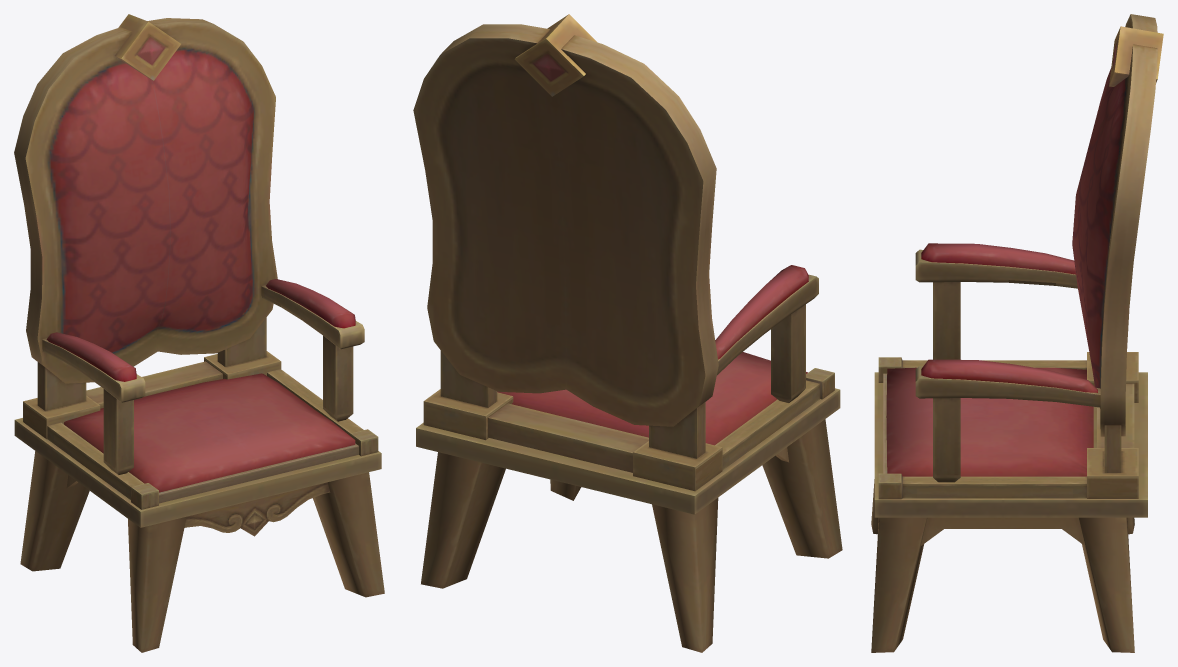
The model's file is Homeworld_Interior_Fd_Chair_Prop_DyzYi_01_Vo.fbx.
3 views of the same model, side by side, from view 1: azimuth 30°, elevation 25°; view 2: azimuth 150°, elevation 25°; view 3: azimuth 270°, elevation 25° (orthographic). The views are drawn at different scales.
Visible parts, largest first — view 1: Indoor_Fd_Prop_Dyz_Chair_A_01_Vo; view 2: Indoor_Fd_Prop_Dyz_Chair_A_01_Vo; view 3: Indoor_Fd_Prop_Dyz_Chair_A_01_Vo.
Part boxes in pixels (box(x1,y1,x2,y2)): Indoor_Fd_Prop_Dyz_Chair_A_01_Vo: box(14, 14, 384, 652); Indoor_Fd_Prop_Dyz_Chair_A_01_Vo: box(413, 14, 842, 652); Indoor_Fd_Prop_Dyz_Chair_A_01_Vo: box(871, 14, 1163, 652).
Bounding box in the file's own units: 0.801 × 1.58 × 0.7454.
